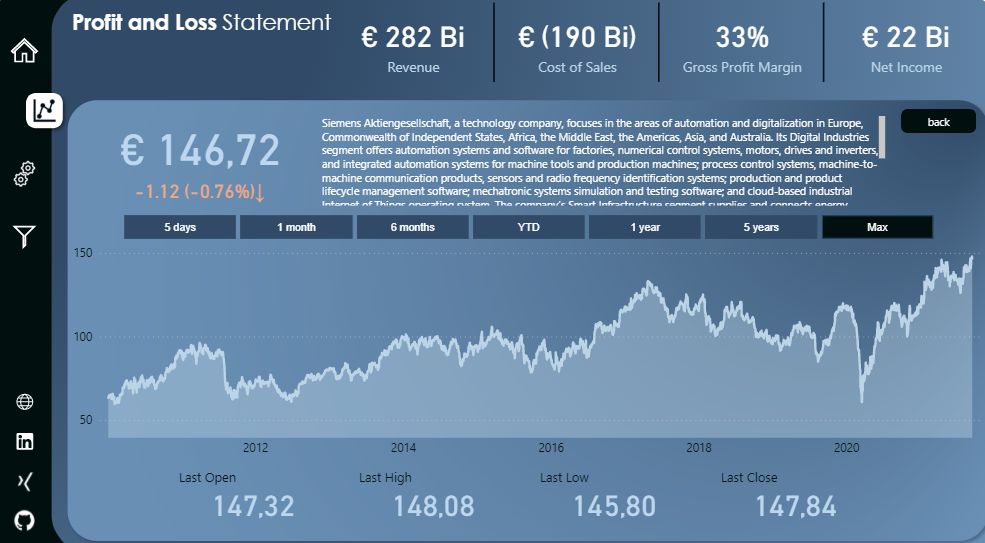

The dashboard page shown, as its layout file describes it:
{"tool":"powerbi","page":{"name":"statement","canvas":[1280,720],"ordinal":1},"visuals":[{"type":"pivotTable","fields":{"Rows":["dDescription.Description"],"Values":["_Measures.Stateemt","_Measures.VA Statement","_Measures.HA Statement"],"Columns":["dCalendar.Year"]},"box":[124.6,179.6,1123.8,515.4],"z":0},{"type":"textbox","box":[112.5,9.4,120.8,44.9],"z":500,"group":"g1"},{"type":"textbox","box":[130.3,193.2,110.8,28.4],"z":1000},{"type":"card","fields":{"Values":["_Measures.Net Income"]},"box":[1053.1,25.7,205.7,94],"z":2000},{"type":"card","fields":{"Values":["_Measures.Gross Profit Margin"]},"box":[847.4,25.7,205.7,94],"z":3000},{"type":"card","fields":{"Values":["_Measures.Cost of Sales"]},"box":[641.8,25.7,205.7,94],"z":4000},{"type":"card","fields":{"Values":["_Measures.Revenue"]},"box":[436.1,25.7,205.7,94],"z":5000},{"type":"actionButton","box":[150.6,116.4,243,27.4],"z":6000},{"type":"actionButton","box":[38.8,504.2,30.8,35.4],"z":7000},{"type":"actionButton","box":[38.8,552.2,30.8,35.4],"z":8000},{"type":"actionButton","box":[39.9,603.5,30.8,35.4],"z":9000},{"type":"actionButton","box":[37.6,653.7,30.8,35.4],"z":10000},{"type":"shape","box":[1149,154,93.9,29.5],"z":11000},{"type":"actionButton","box":[24,55.9,62.7,55.9],"z":12000},{"type":"actionButton","box":[24.4,211.2,62.3,56],"z":13000},{"type":"actionButton","box":[24,290.9,62.7,55.9],"z":14000},{"type":"group","id":"g1","title":"Group 2","box":[8.1,9.3,1263.7,699.2],"z":16000}]}

Visuals, with their boxes on the page's 1280x720 design canvas (x1, y1, x2, y2). These are canvas units, not pixel positions in the 985x543 screenshot, which may show the page scaled, cropped or inside an application window:
pivotTable - dDescription.Description x _Measures.Stateemt: box(125, 180, 1248, 695)
textbox: box(112, 9, 233, 54)
textbox: box(130, 193, 241, 222)
card - _Measures.Net Income: box(1053, 26, 1259, 120)
card - _Measures.Gross Profit Margin: box(847, 26, 1053, 120)
card - _Measures.Cost of Sales: box(642, 26, 848, 120)
card - _Measures.Revenue: box(436, 26, 642, 120)
actionButton: box(151, 116, 394, 144)
actionButton: box(39, 504, 70, 540)
actionButton: box(39, 552, 70, 588)
actionButton: box(40, 604, 71, 639)
actionButton: box(38, 654, 68, 689)
shape: box(1149, 154, 1243, 184)
actionButton: box(24, 56, 87, 112)
actionButton: box(24, 211, 87, 267)
actionButton: box(24, 291, 87, 347)
"Group 2" group: box(8, 9, 1272, 708)
